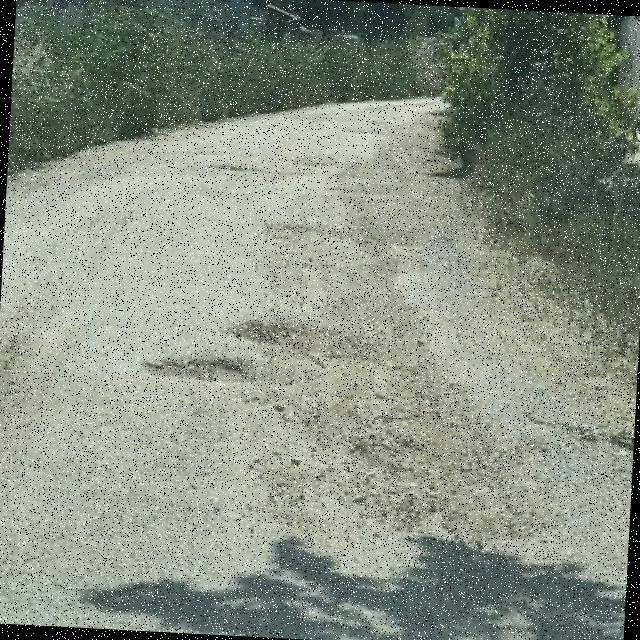Pothole: (139, 357, 260, 388), (224, 320, 296, 347)
